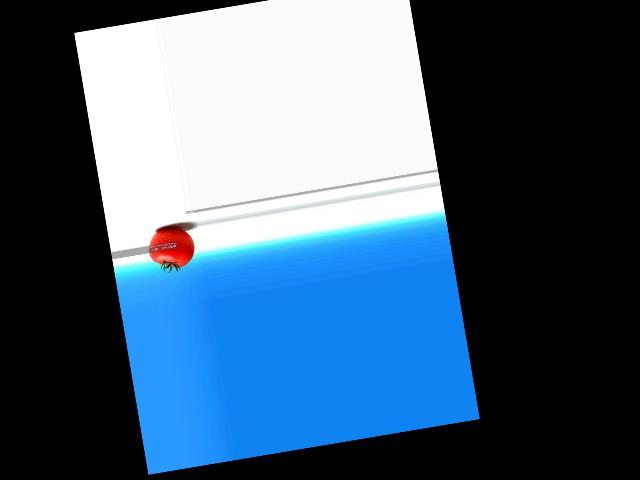tomato: (145, 225, 196, 271)
